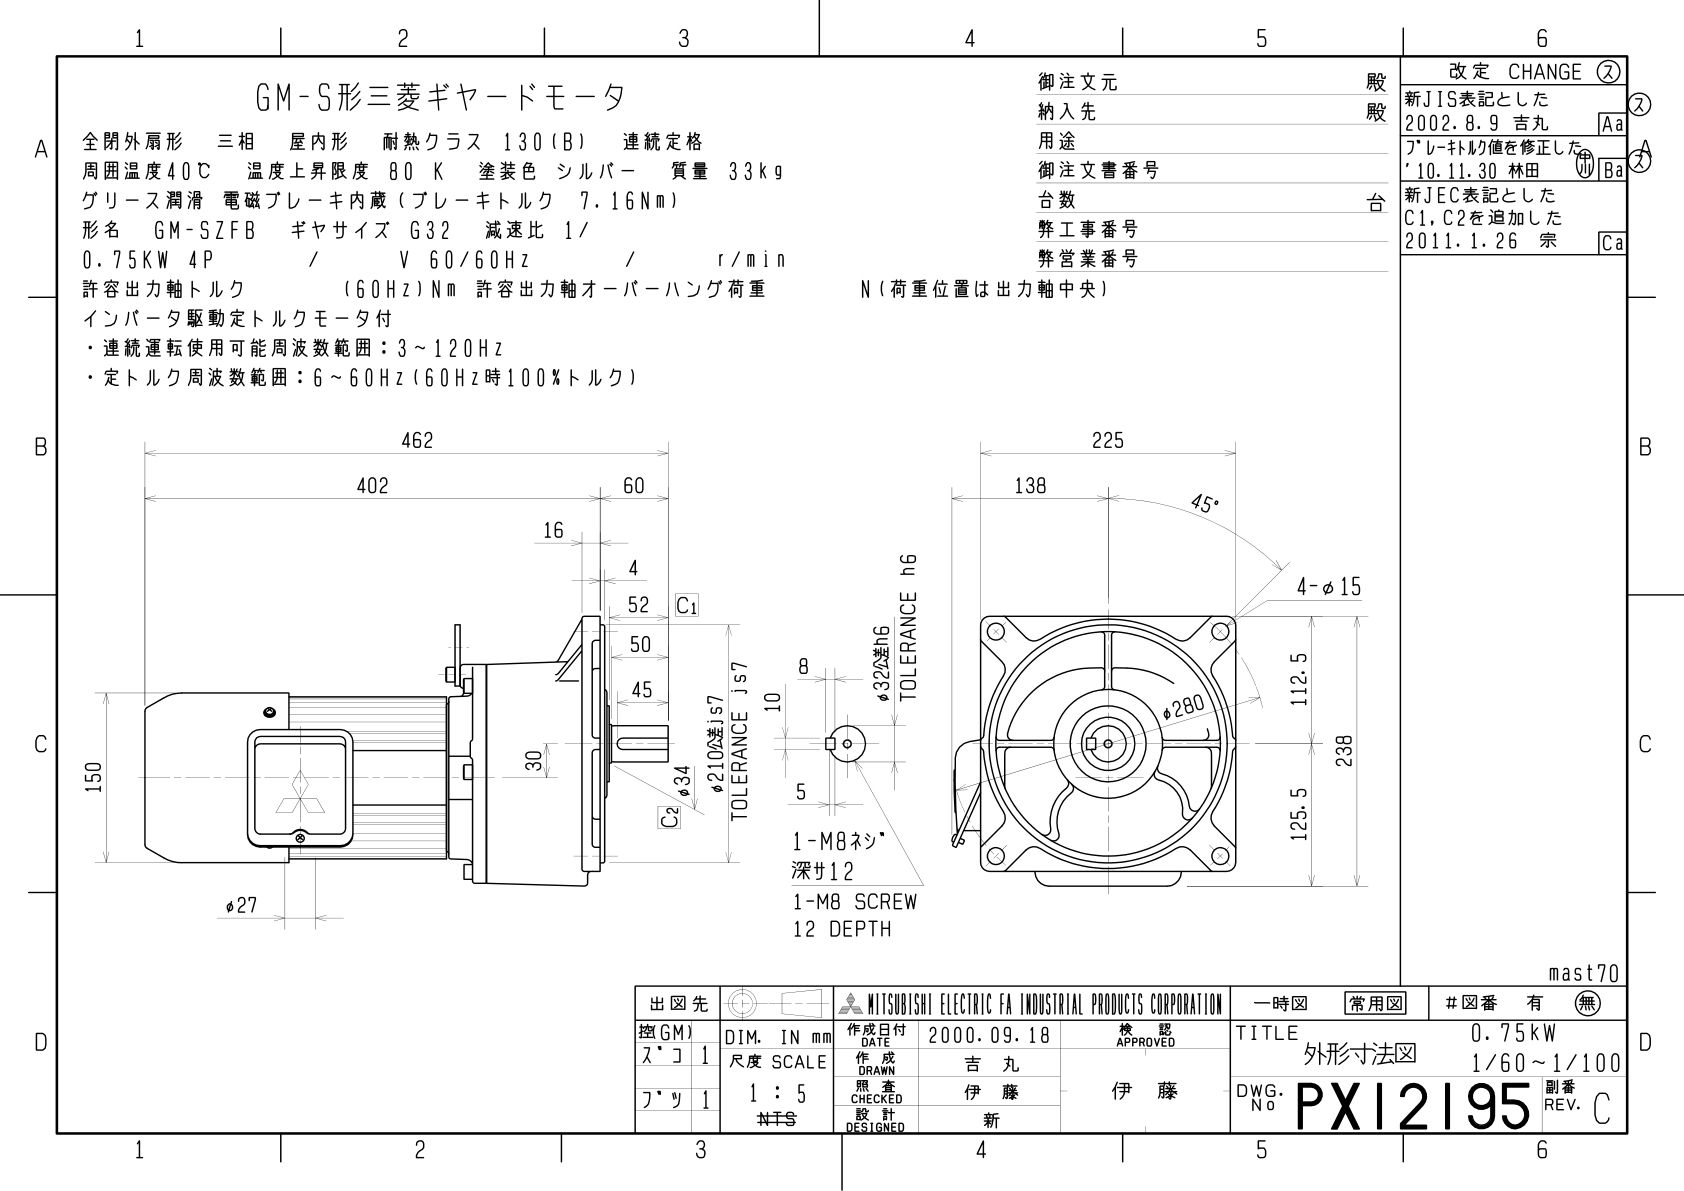GM_S_インバタ屋内＿三相_フランジ: (75, 409, 1385, 959)
